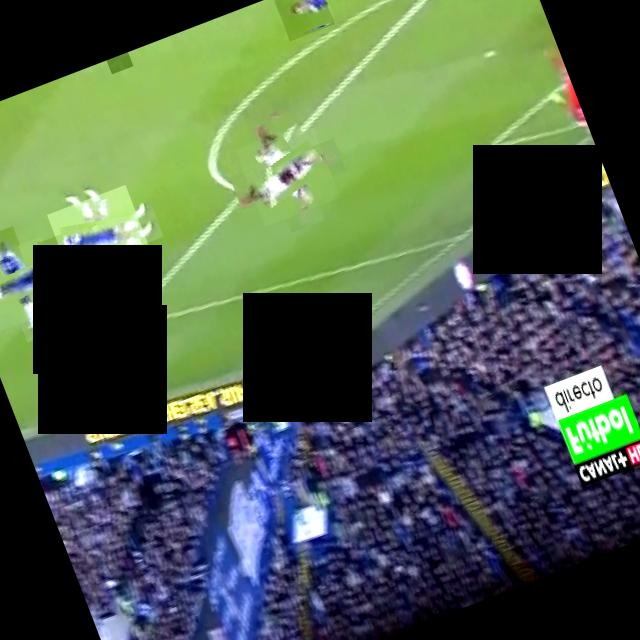soccer-player: (46, 184, 155, 294), (234, 120, 339, 226), (0, 235, 67, 331), (271, 0, 333, 40), (106, 52, 132, 74)
